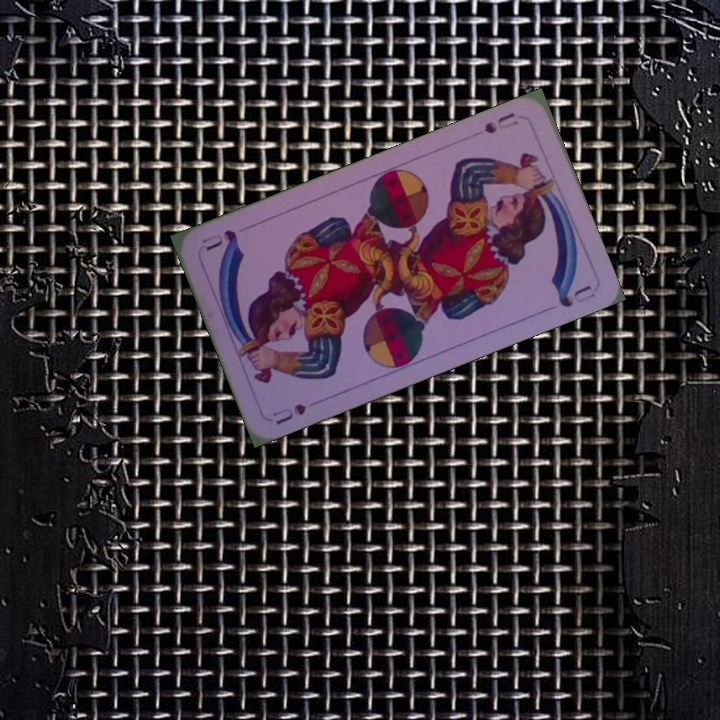SU: (268, 399, 309, 427), (480, 108, 521, 136)
